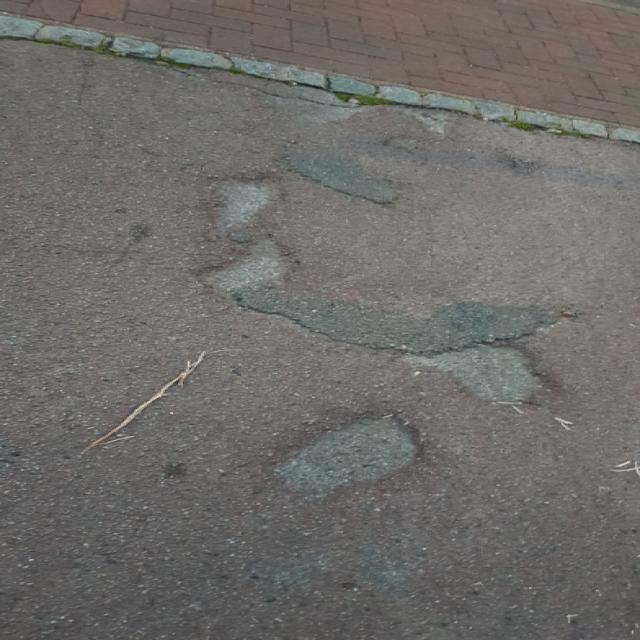pothole: (254, 400, 426, 500), (398, 341, 564, 406), (190, 234, 296, 296), (191, 172, 284, 232)
